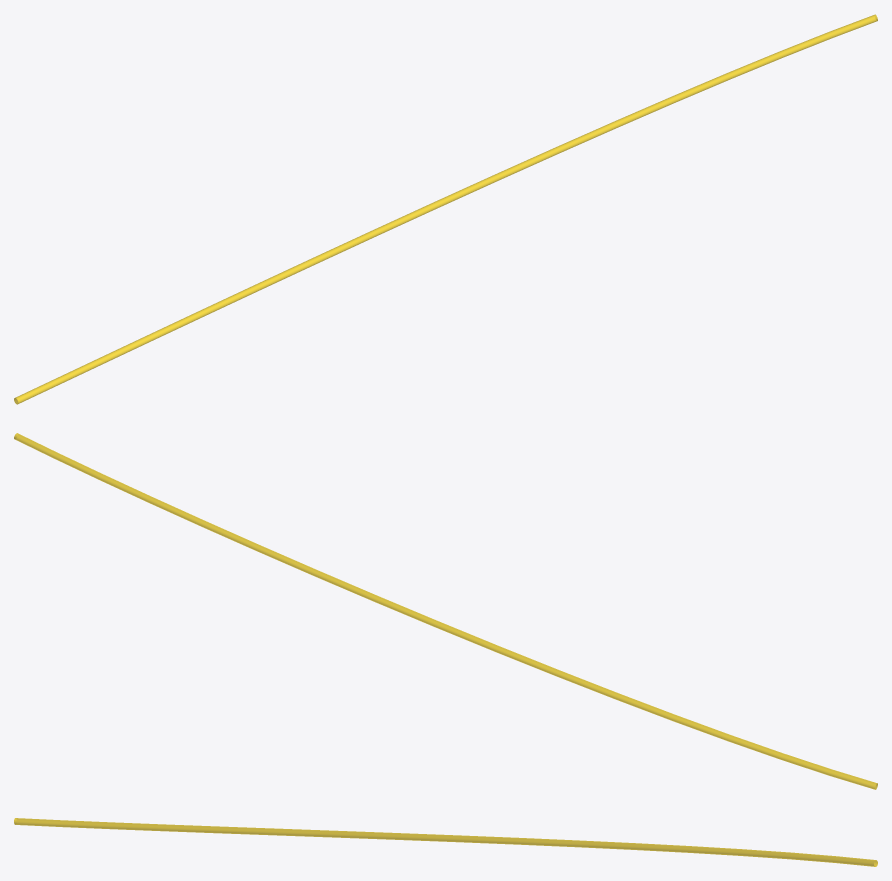
File: Event_31209032_track_33.fbx
3 renders of one model, top to bottom at view 1: azimuth 30°, elevation 25°; view 2: azimuth 150°, elevation 25°; view 3: azimuth 330°, elevation 25°, orthographic. The views are drawn at different scales.
Parts seen in each view (by area): view 1: Model; view 2: Model; view 3: Model.
Part boxes in pixels (<box>): Model: <box>14,14,877,404</box>; Model: <box>14,433,877,789</box>; Model: <box>14,818,877,866</box>.
Bounding box in the file's own units: 5.65 × 1.02 × 0.2657.
